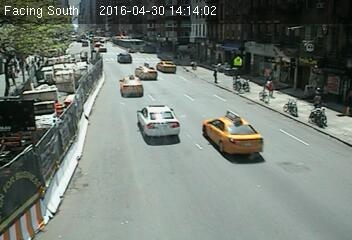neg: (284, 94, 301, 117), (159, 56, 172, 73), (118, 49, 128, 62), (247, 43, 256, 54)
pos: (312, 85, 329, 107), (264, 76, 279, 96), (208, 66, 221, 84), (189, 55, 199, 69)
